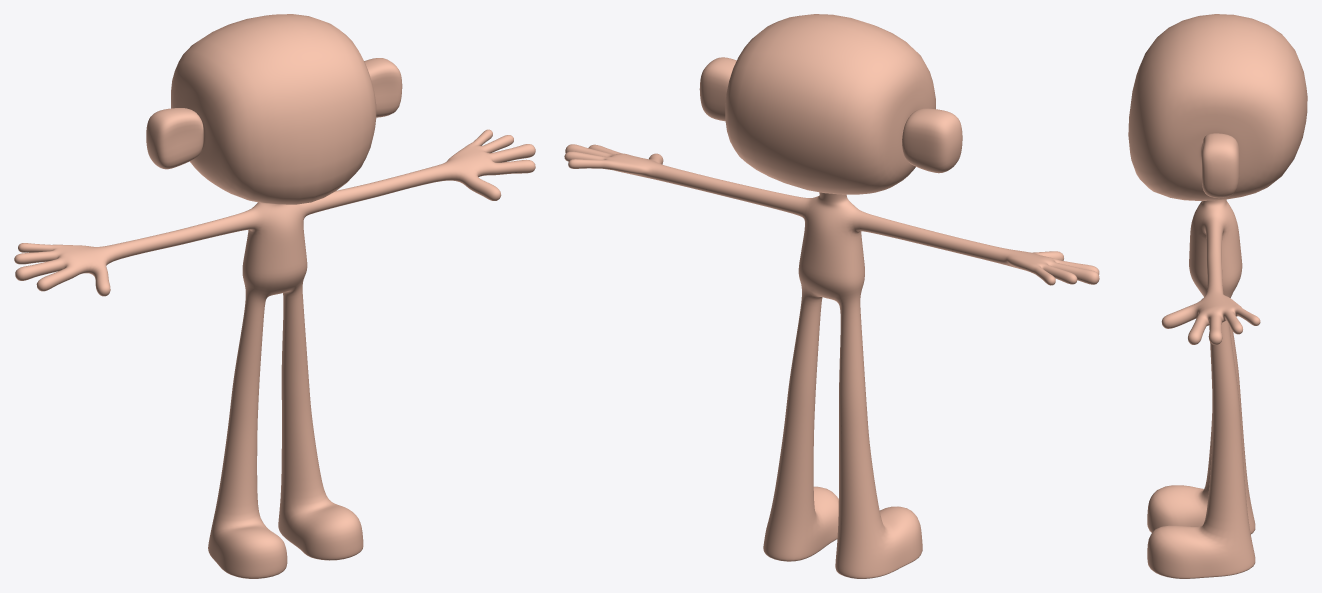
File: characterModel.glb
3 renders of one model, left to right at view 1: azimuth 30°, elevation 25°; view 2: azimuth 150°, elevation 25°; view 3: azimuth 270°, elevation 25°, orthographic. The views are drawn at different scales.
Visible parts, largest first — view 1: Body_0; view 2: Body_0; view 3: Body_0.
Part boxes in pixels (bbox=[...]): Body_0: bbox=[14, 14, 535, 578]; Body_0: bbox=[564, 14, 1099, 578]; Body_0: bbox=[1128, 14, 1307, 578].
Size of the model in its own units: 24.08 by 23 by 7.2.
